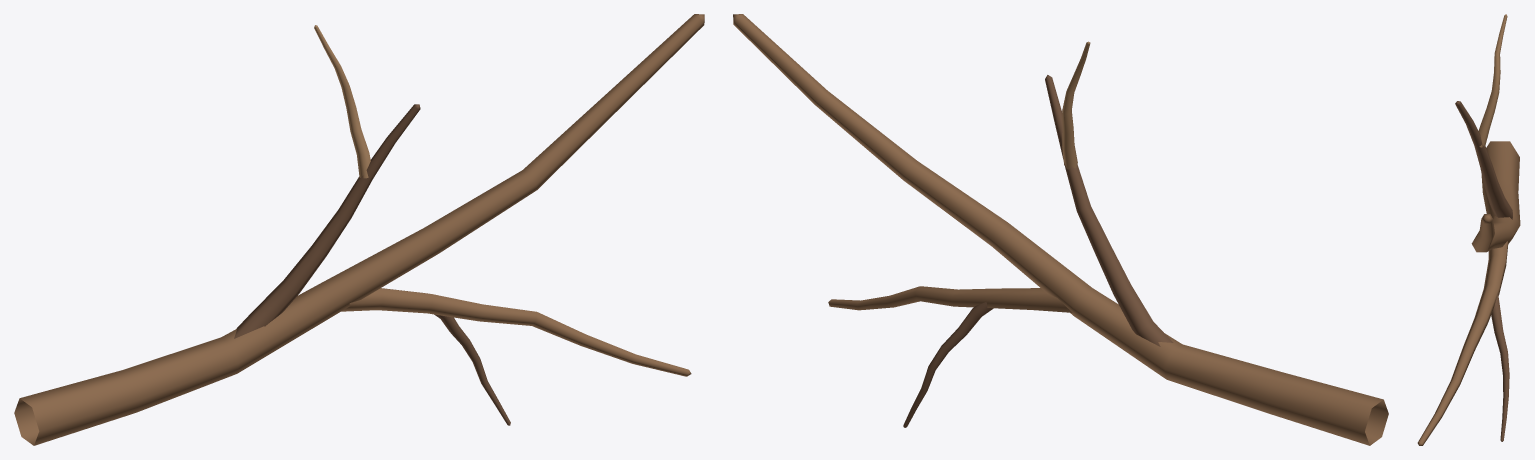
The model's file is debris_twig.glb.
The picture shows the model from 3 angles, left to right: view 1: azimuth 30°, elevation 25°; view 2: azimuth 150°, elevation 25°; view 3: azimuth 270°, elevation 25°; orthographic projection. The views are drawn at different scales.
Visible parts, largest first — view 1: debris_twig; view 2: debris_twig; view 3: debris_twig.
Part boxes in pixels (x1,y1,x2,y2): debris_twig: [14, 14, 704, 445]; debris_twig: [733, 14, 1388, 445]; debris_twig: [1417, 14, 1520, 445].
Bounding box in the file's own units: 1.4 × 0.8873 × 0.2342.
1 material, 1 textured.
